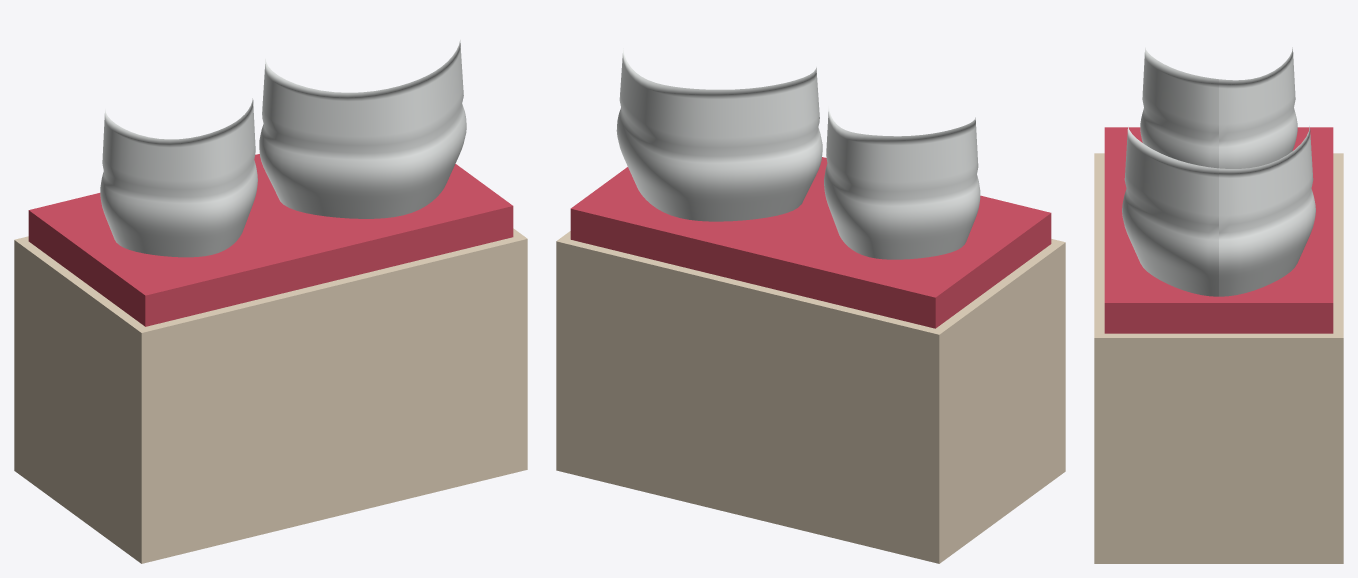
The model's file is deep-cleaning-periodontics.glb.
3 views of the same model, side by side, from view 1: azimuth 30°, elevation 25°; view 2: azimuth 150°, elevation 25°; view 3: azimuth 270°, elevation 25° (orthographic). The views are drawn at different scales.
Parts seen in each view (by area): view 1: Mesh_Alveolar_Bone_Crest, Mesh_Periodontal_Pocket, Mesh_Tooth_Molar_Crown, Mesh_Tooth_Premolar_Crown; view 2: Mesh_Alveolar_Bone_Crest, Mesh_Periodontal_Pocket, Mesh_Tooth_Molar_Crown, Mesh_Tooth_Premolar_Crown; view 3: Mesh_Alveolar_Bone_Crest, Mesh_Tooth_Molar_Crown, Mesh_Periodontal_Pocket, Mesh_Tooth_Premolar_Crown.
Part boxes in pixels (x1=…): Mesh_Alveolar_Bone_Crest: x1=14, y1=228, x2=527, y2=563; Mesh_Periodontal_Pocket: x1=28, y1=154, x2=513, y2=326; Mesh_Tooth_Molar_Crown: x1=259, y1=40, x2=466, y2=218; Mesh_Tooth_Premolar_Crown: x1=100, y1=98, x2=257, y2=257; Mesh_Alveolar_Bone_Crest: x1=556, y1=231, x2=1065, y2=563; Mesh_Periodontal_Pocket: x1=570, y1=157, x2=1051, y2=328; Mesh_Tooth_Molar_Crown: x1=616, y1=48, x2=822, y2=221; Mesh_Tooth_Premolar_Crown: x1=824, y1=106, x2=980, y2=259; Mesh_Alveolar_Bone_Crest: x1=1094, y1=153, x2=1343, y2=563; Mesh_Tooth_Molar_Crown: x1=1122, y1=126, x2=1315, y2=296; Mesh_Periodontal_Pocket: x1=1104, y1=127, x2=1333, y2=333; Mesh_Tooth_Premolar_Crown: x1=1140, y1=47, x2=1297, y2=168.
Bounding box in the file's own units: 4.2 × 4.16 × 2.4.
